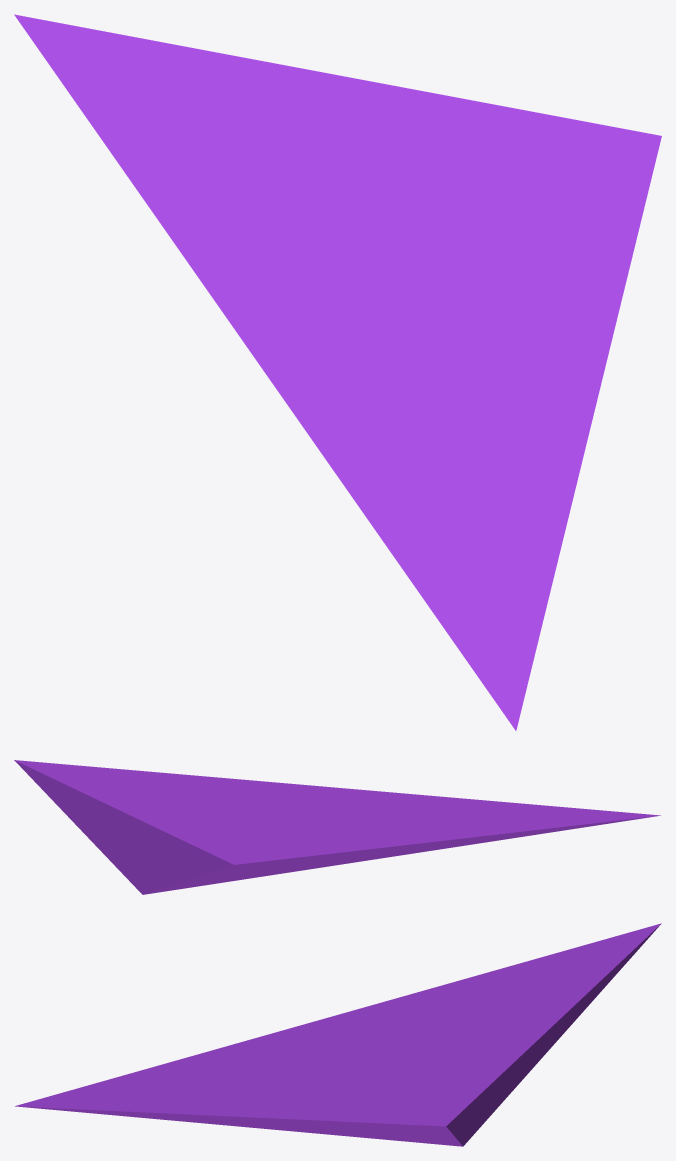
The model's file is Window_154_3_chunks.fbx.
3 renders of one model, top to bottom at view 1: azimuth 30°, elevation 25°; view 2: azimuth 150°, elevation 25°; view 3: azimuth 270°, elevation 25°, orthographic. The views are drawn at different scales.
Parts seen in each view (by area): view 1: Window_154_3_0; view 2: Window_154_3_0; view 3: Window_154_3_0.
Part boxes in pixels (x1=…): Window_154_3_0: x1=14, y1=14, x2=661, y2=730; Window_154_3_0: x1=14, y1=760, x2=660, y2=894; Window_154_3_0: x1=15, y1=923, x2=661, y2=1146.
Bounding box in the file's own units: 200 × 121 × 368.
